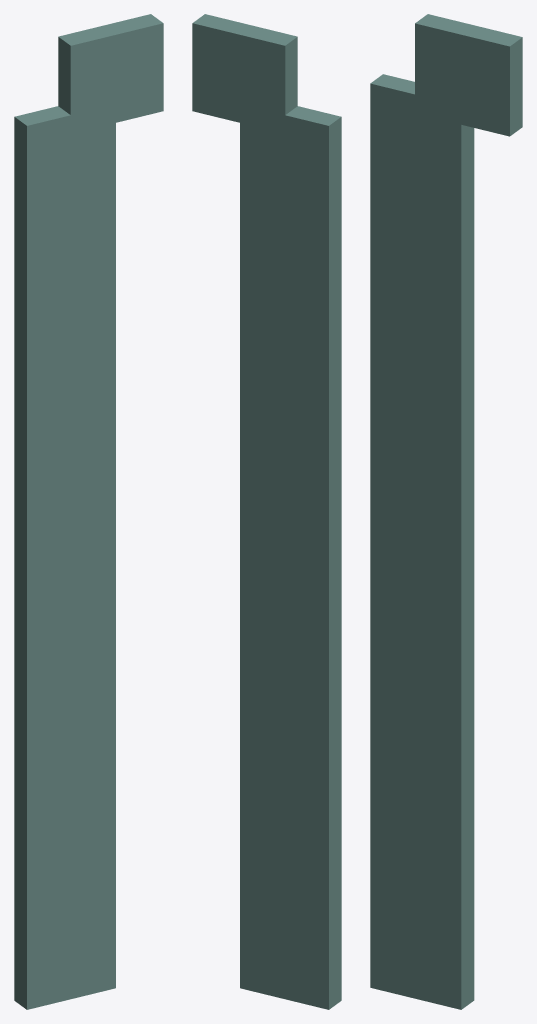
File: Canalon.fbx
The picture shows the model from 3 angles, left to right: view 1: azimuth 30°, elevation 25°; view 2: azimuth 150°, elevation 25°; view 3: azimuth 330°, elevation 25°; orthographic projection. The views are drawn at different scales.
Visible parts, largest first — view 1: Cube.020; view 2: Cube.020; view 3: Cube.020.
Part boxes in pixels (x1,y1,x2,y2): Cube.020: (14, 14, 163, 1009); Cube.020: (192, 14, 341, 1009); Cube.020: (370, 14, 522, 1009).
Bounding box in the file's own units: 30.65 × 205 × 4.89.
